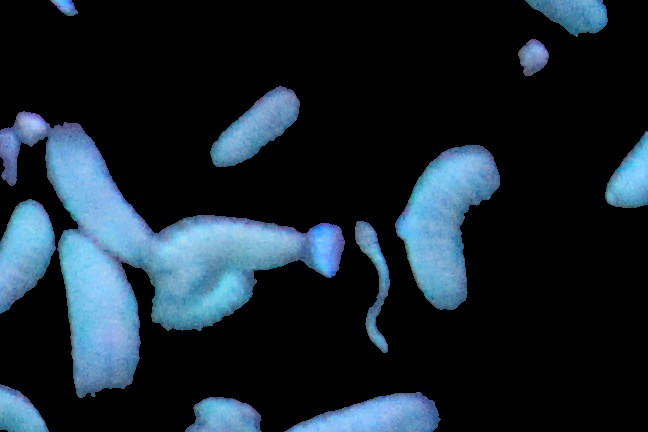larvae: (40, 121, 166, 268), (394, 145, 501, 310), (55, 237, 139, 393), (149, 213, 304, 275), (269, 386, 442, 432), (210, 88, 296, 172), (155, 270, 255, 332), (1, 204, 55, 310)
